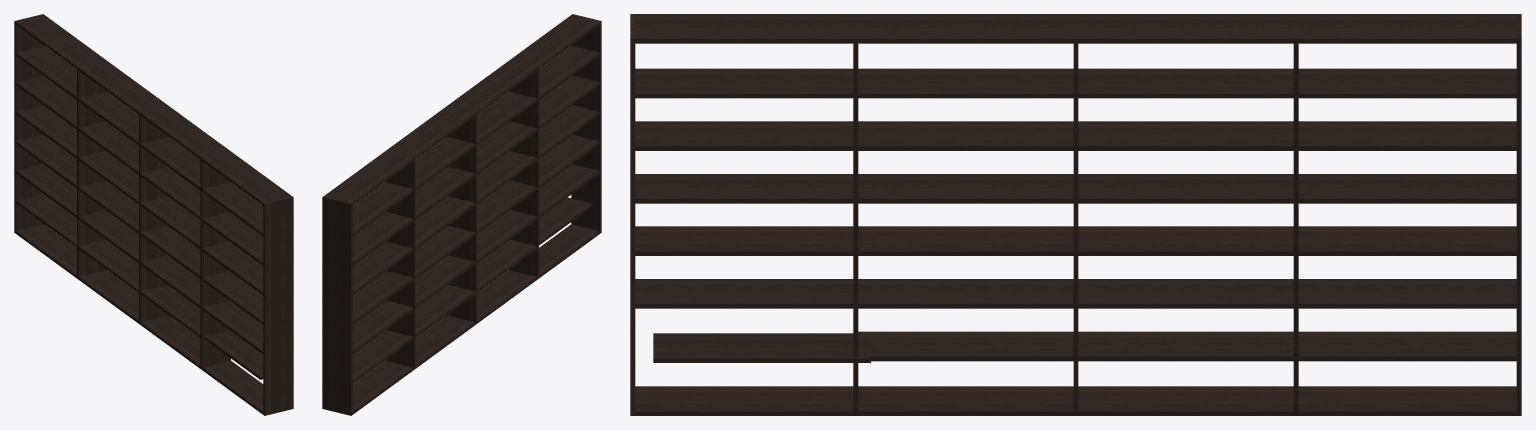
The model's file is estanteria.fbx.
The picture shows the model from 3 angles, left to right: view 1: azimuth 30°, elevation 25°; view 2: azimuth 150°, elevation 25°; view 3: azimuth 270°, elevation 25°; orthographic projection. The views are drawn at different scales.
Parts seen in each view (by area): view 1: Objeto_4, Objeto_1, Objeto_3, Objeto_7, Objeto_2, Objeto_5, Objeto_6, Objeto_30, Objeto_25, Objeto_23, Objeto_24, Objeto_29 (+19 smaller); view 2: Objeto_4, Objeto_2, Objeto_3, Objeto_1, Objeto_5, Objeto_7, Objeto_6, Objeto_25, Objeto_30, Objeto_23, Objeto_24, Objeto_22 (+19 smaller); view 3: Objeto_4, Objeto_3, Objeto_8, Objeto_25, Objeto_30, Objeto_9, Objeto_23, Objeto_24, Objeto_13, Objeto_16, Objeto_19, Objeto_22 (+19 smaller).
Part boxes in pixels (box(x1,y1,x2,y2)): Objeto_4: box(15, 15, 291, 205); Objeto_1: box(263, 196, 293, 415); Objeto_3: box(15, 224, 263, 414); Objeto_7: box(200, 160, 230, 367); Objeto_2: box(14, 14, 44, 233); Objeto_5: box(77, 69, 106, 276); Objeto_6: box(139, 115, 168, 322); Objeto_30: box(202, 182, 263, 235); Objeto_25: box(15, 46, 76, 99); Objeto_23: box(140, 137, 200, 190); Objeto_24: box(78, 91, 138, 145); Objeto_29: box(202, 212, 263, 265); Objeto_4: box(324, 15, 600, 205); Objeto_2: box(322, 196, 352, 415); Objeto_3: box(352, 224, 600, 414); Objeto_1: box(571, 14, 601, 233); Objeto_5: box(385, 160, 415, 367); Objeto_7: box(509, 69, 538, 276); Objeto_6: box(447, 115, 476, 322); Objeto_25: box(352, 182, 413, 235); Objeto_30: box(539, 46, 600, 99); Objeto_23: box(477, 91, 537, 145); Objeto_24: box(415, 137, 475, 190); Objeto_22: box(352, 212, 413, 265); Objeto_4: box(635, 14, 1516, 43); Objeto_3: box(635, 386, 1516, 415); Objeto_8: box(1298, 331, 1516, 361); Objeto_25: box(1298, 68, 1516, 98); Objeto_30: box(635, 68, 853, 98); Objeto_9: box(1078, 331, 1293, 361); Objeto_23: box(858, 68, 1073, 98); Objeto_24: box(1078, 68, 1293, 98); Objeto_13: box(1298, 279, 1516, 308); Objeto_16: box(1298, 226, 1516, 255); Objeto_19: box(1298, 174, 1516, 203); Objeto_22: box(1298, 121, 1516, 150).
Bounding box in the file's own units: 1.07 × 15 × 7.
